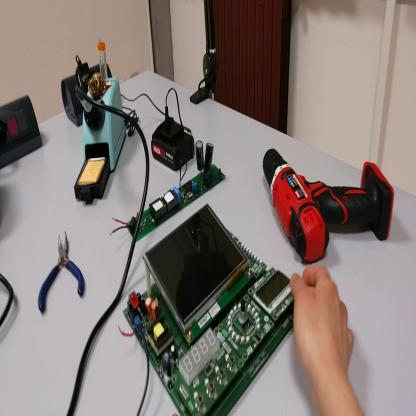electric screwdriver: (263, 142, 397, 265)
electric screwdriver battery: (152, 123, 199, 168)
hand: (288, 265, 356, 385)
high voltage board: (110, 138, 225, 242)
low voltage board: (119, 205, 294, 416)
pliers: (39, 232, 86, 315)
socket: (60, 61, 114, 124), (2, 92, 43, 170)
welder base: (73, 40, 126, 207)
welder probe tip: (77, 89, 101, 125)
